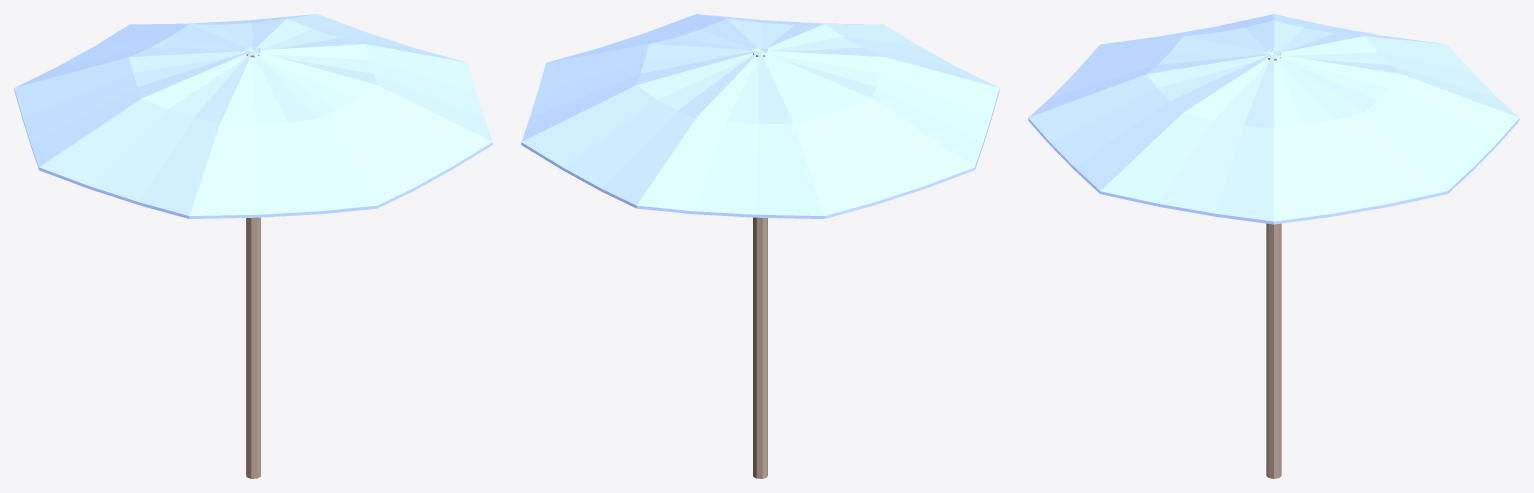
Rendered from umbrella1.fbx.
The picture shows the model from 3 angles, left to right: view 1: azimuth 30°, elevation 25°; view 2: azimuth 150°, elevation 25°; view 3: azimuth 270°, elevation 25°; orthographic projection.
Visible parts, largest first — view 1: Cylinder; view 2: Cylinder; view 3: Cylinder.
Boxes of the visible parts, x1,y1,x2,y2 form: Cylinder: (14,14,492,478); Cylinder: (521,14,999,478); Cylinder: (1028,14,1519,478).
Bounding box in the file's own units: 4451 × 4229 × 4451.
